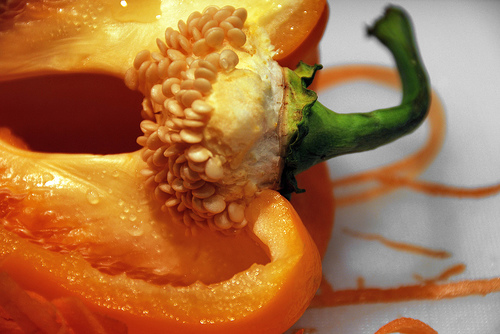capsicum: (0, 0, 432, 333)
